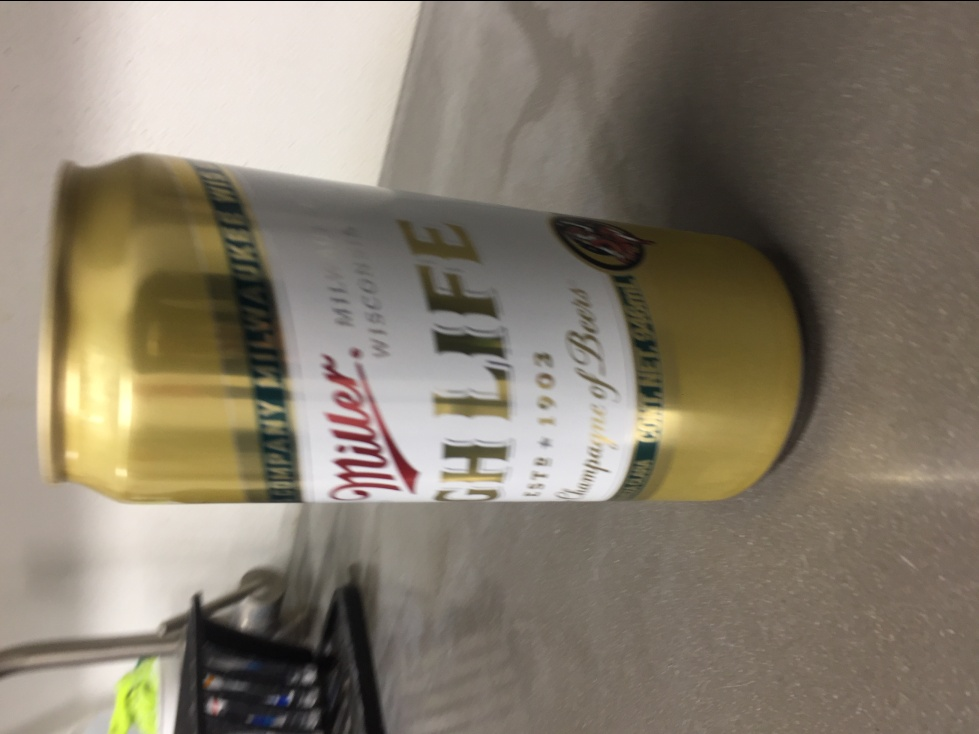miller: (34, 149, 803, 509)
